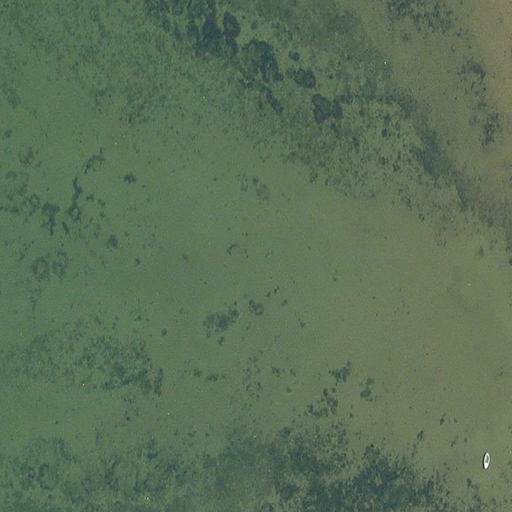ship: (482, 452, 490, 471)
